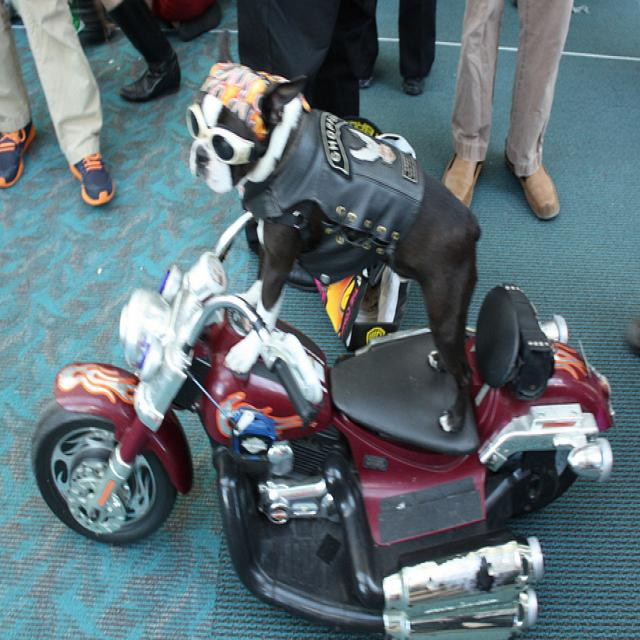motor: (27, 180, 609, 629)
